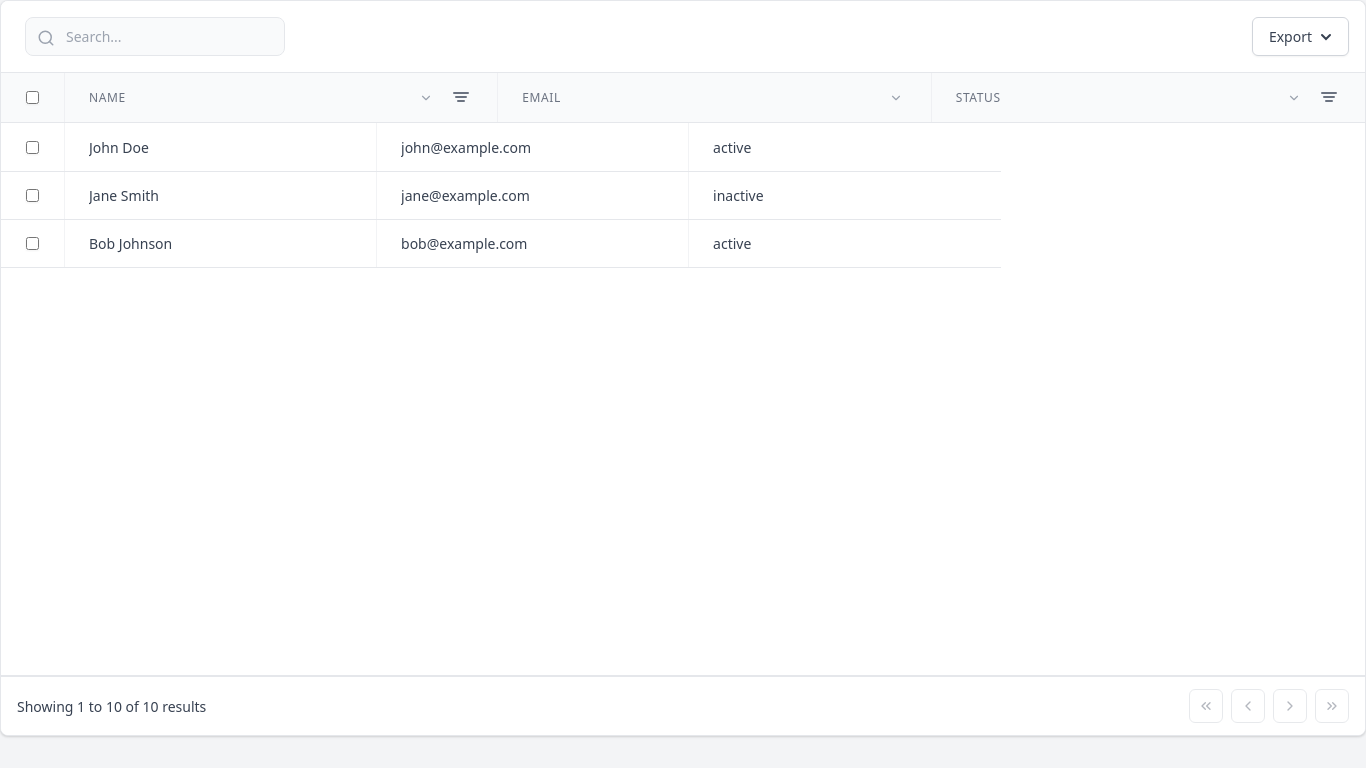
Test: DataTable Sorting › handles column sort click
This screenshot has width=1366, height=768.
Click the button "Name": point(107, 97) [89,88,126,106]
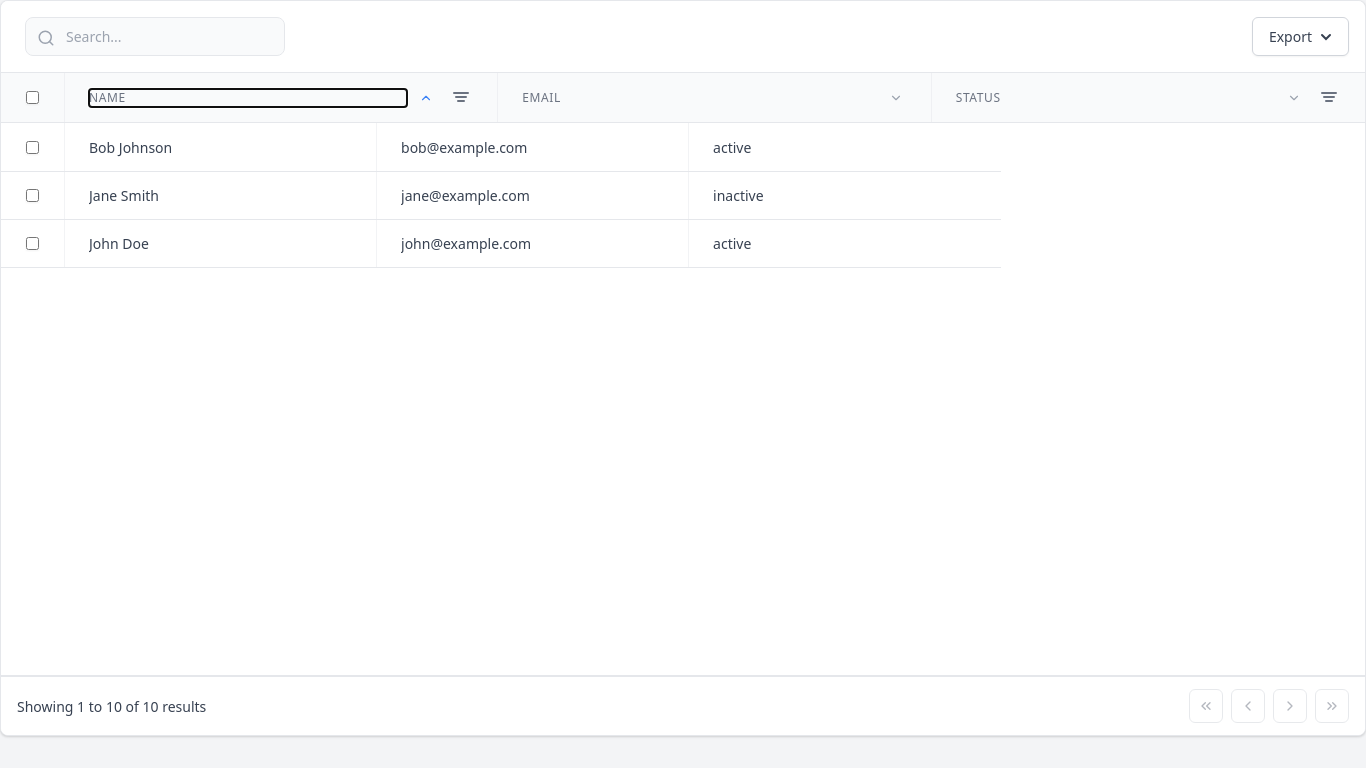
Expected: the cell "Bob Johnson" is shown, [65,123,377,171]
Click the button "Name": point(107, 97) [89,88,126,106]
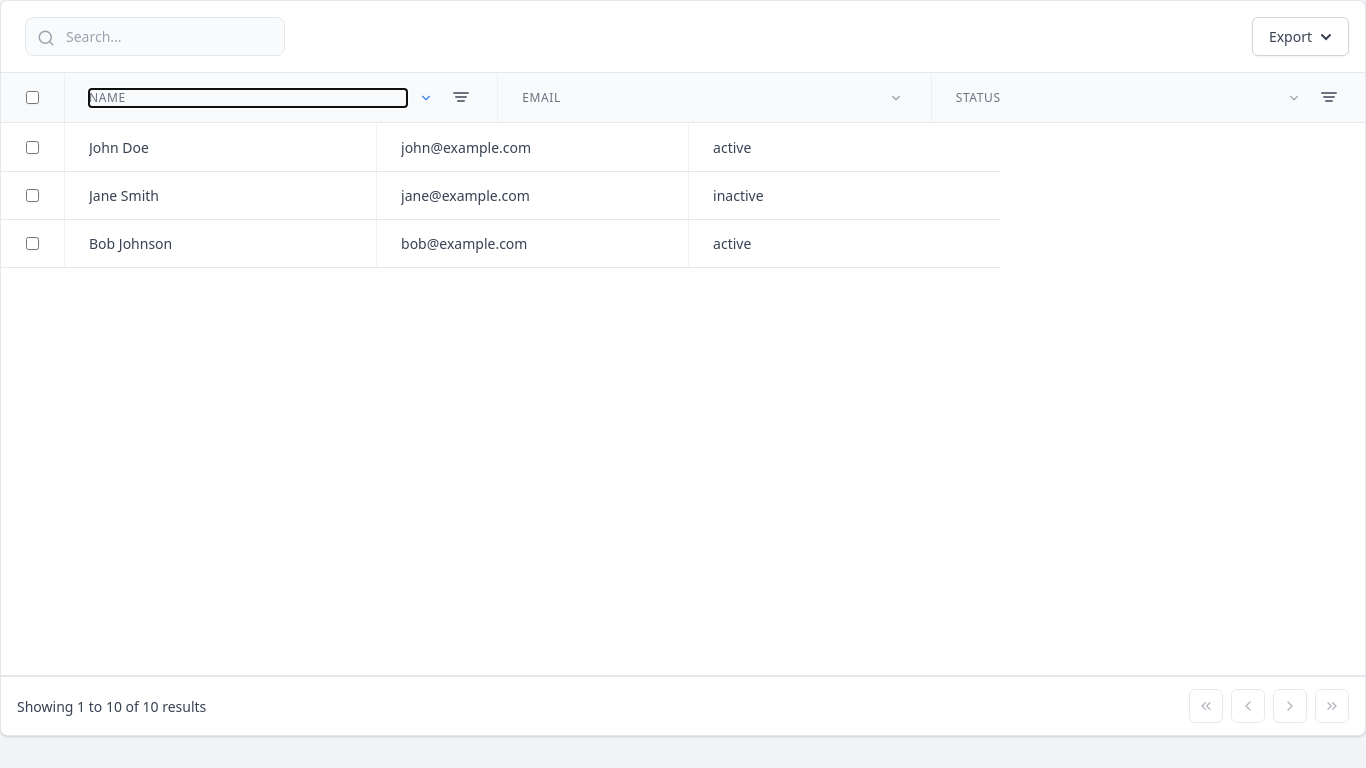
Expected: the cell "John Doe" is shown, [65,123,377,171]
